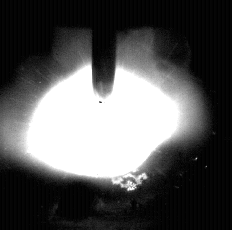arame: (93, 0, 117, 97)
poca: (29, 0, 179, 230)
